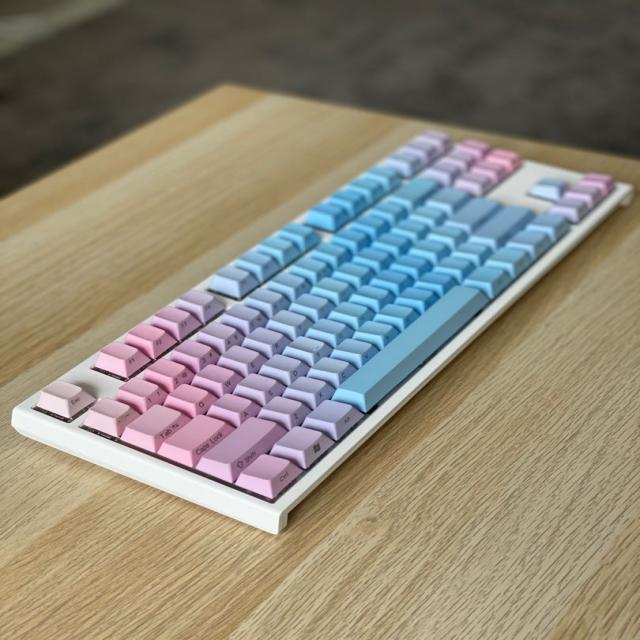keyboard: (27, 130, 628, 509)
